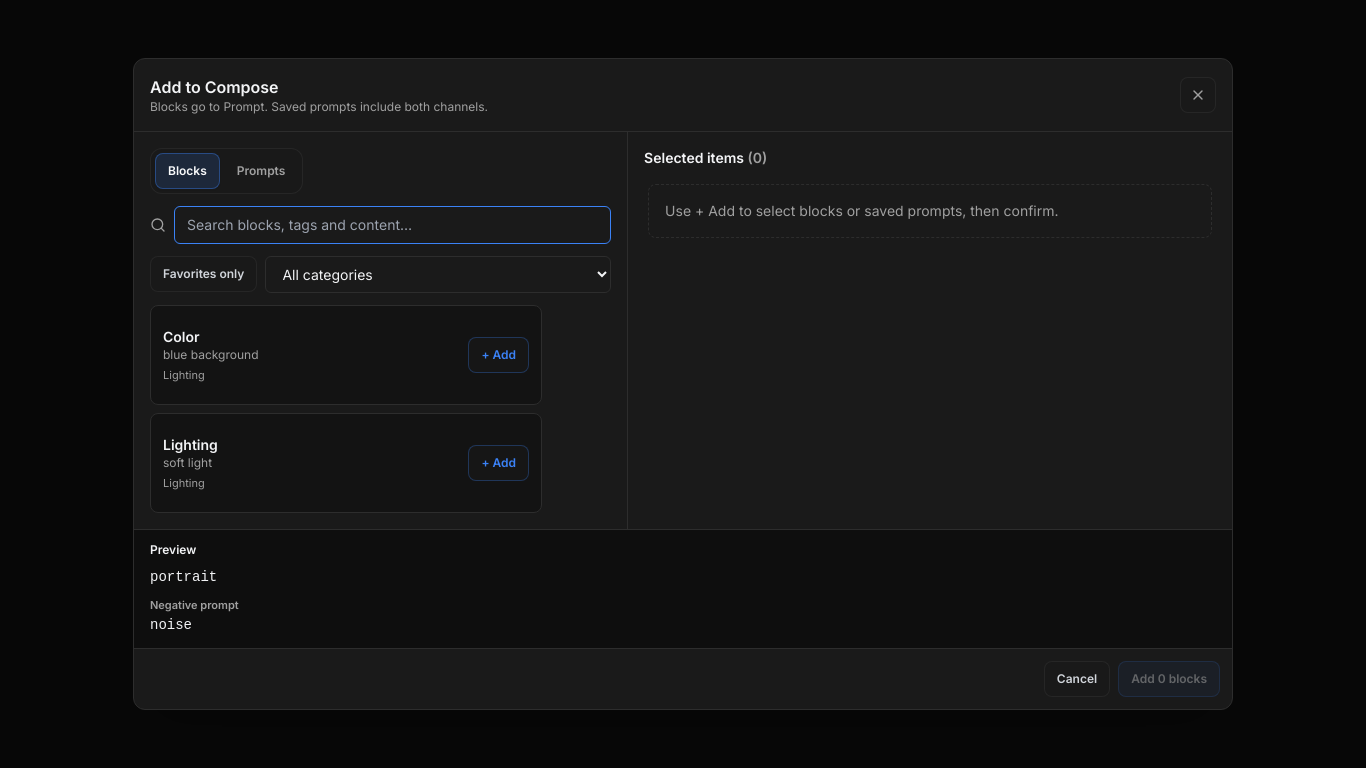
Test: keeps reorder handles on the whole cards and preserves arrow ordering in the selected list
The image size is (1366, 768).
Click the button with aria-label "Add block Lighting". click: (499, 463)
box: [468, 445, 529, 481]
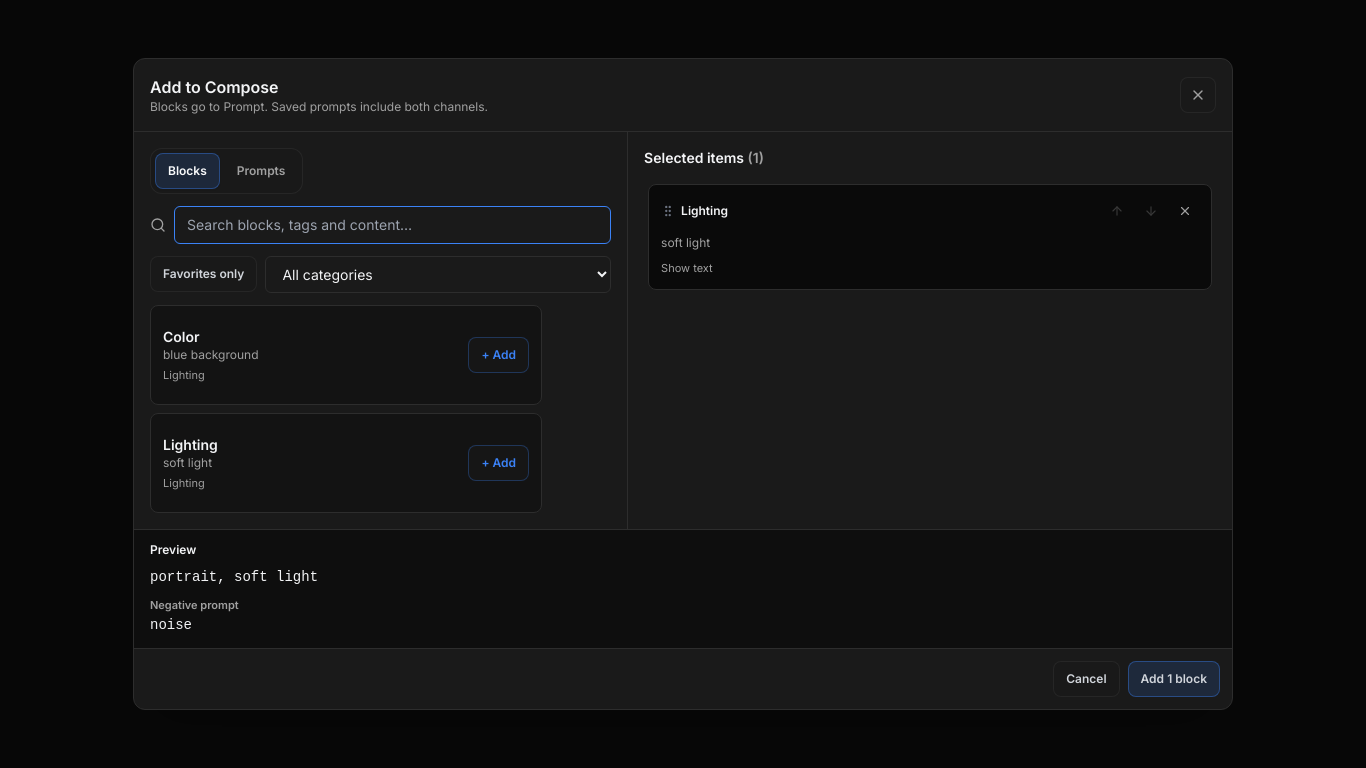
Click the button with aria-label "Add block Color". click: (499, 355)
box: [468, 337, 529, 373]
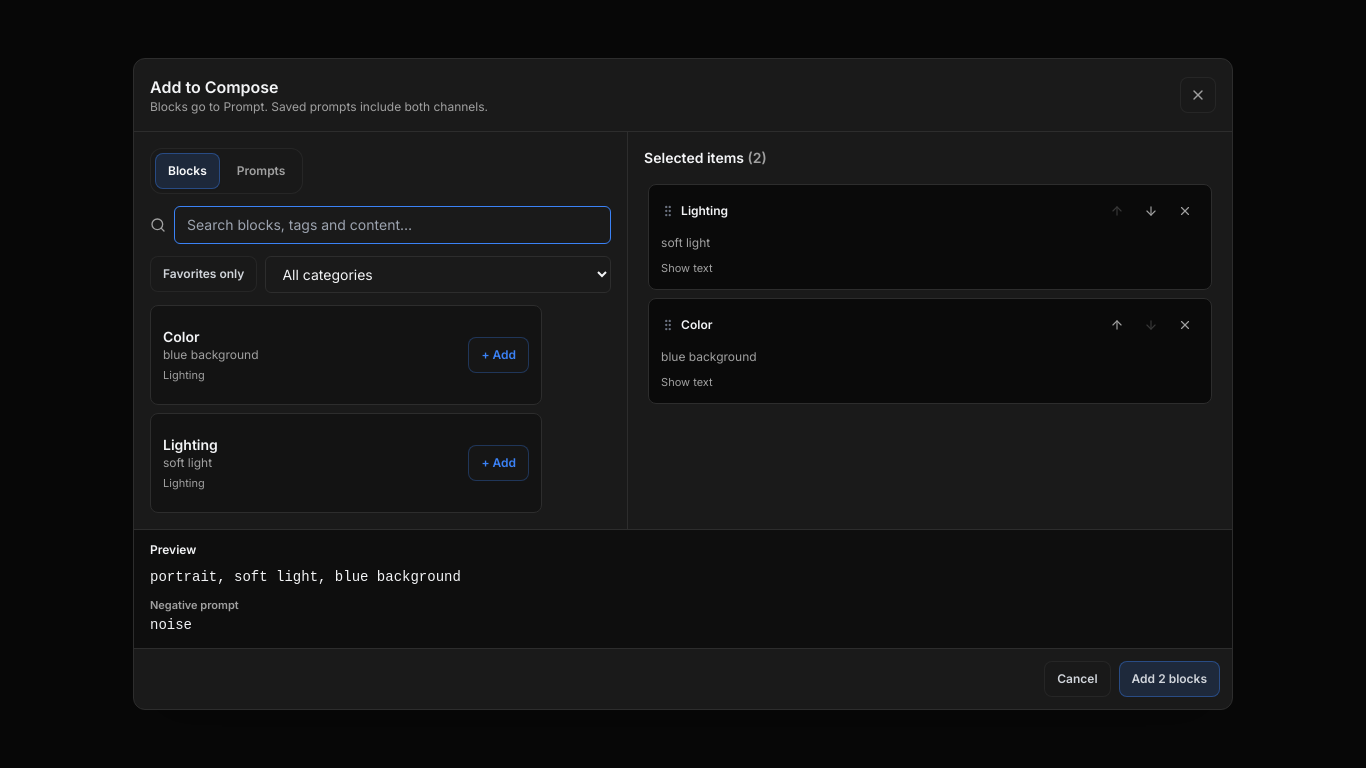
Click the button named "Move positive part 2 up". click: (1117, 325)
box: [1103, 311, 1131, 339]
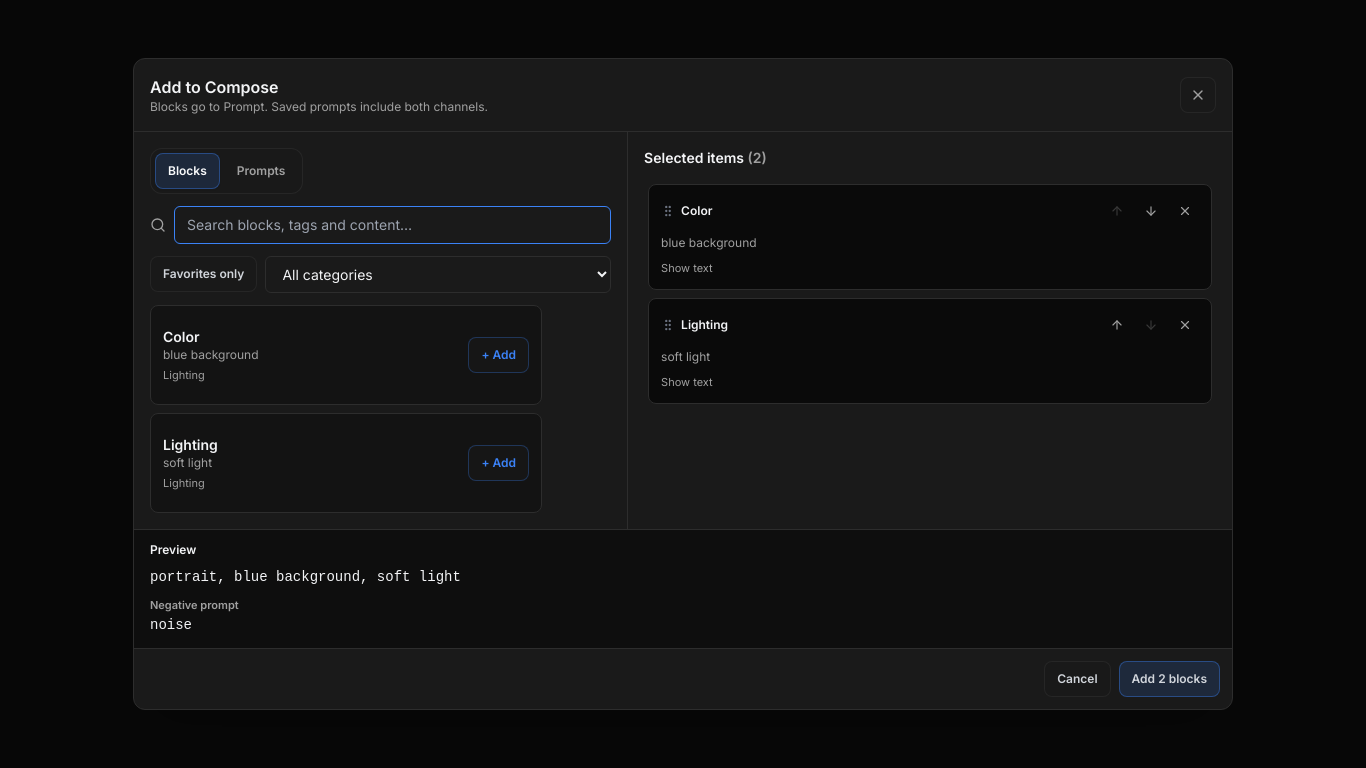
Expected: the text "portrait, blue background, soft light" is shown, [150, 569, 461, 585]
